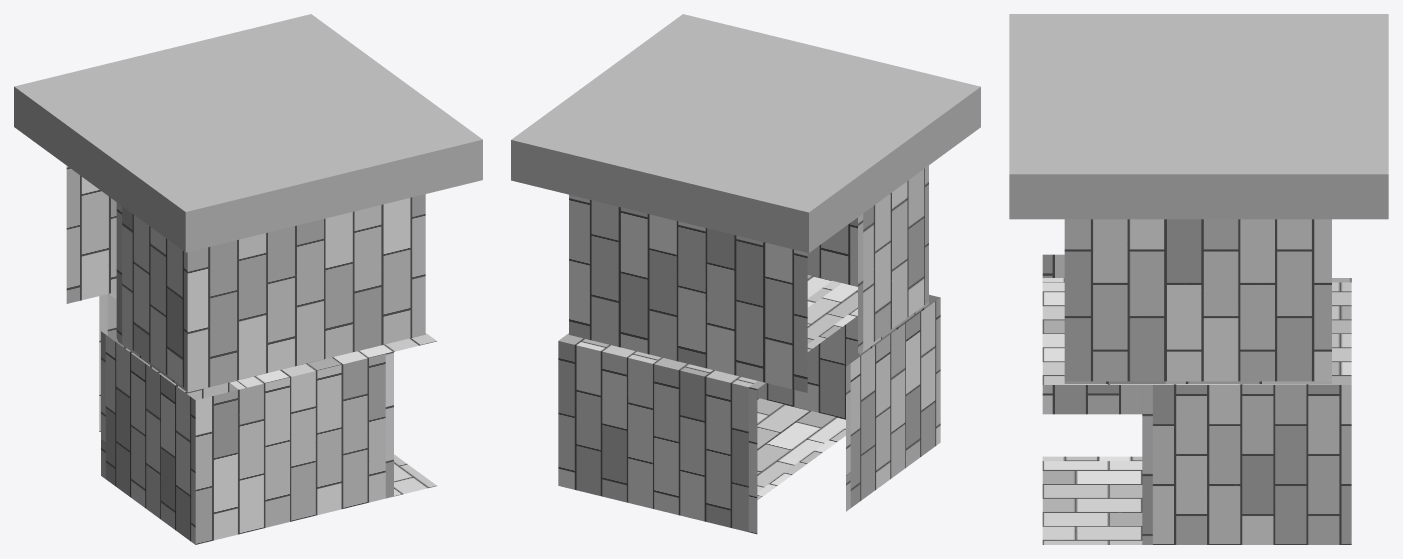
File: House2.fbx
3 renders of one model, left to right at view 1: azimuth 30°, elevation 25°; view 2: azimuth 150°, elevation 25°; view 3: azimuth 270°, elevation 25°, orthographic. The views are drawn at different scales.
Parts seen in each view (by area): view 1: Roof, SecondBlock, FirstBlock; view 2: Roof, FirstBlock, SecondBlock; view 3: Roof, FirstBlock, SecondBlock.
Part boxes in pixels (x1,y1,x2,y2): Roof: [14, 14, 482, 252]; SecondBlock: [66, 166, 425, 392]; FirstBlock: [99, 292, 436, 544]; Roof: [511, 14, 980, 252]; FirstBlock: [558, 283, 940, 534]; SecondBlock: [569, 165, 928, 392]; Roof: [1009, 14, 1388, 219]; FirstBlock: [1042, 254, 1351, 544]; SecondBlock: [1064, 219, 1331, 383].
Size of the model in its own units: 860 by 968 by 860.
